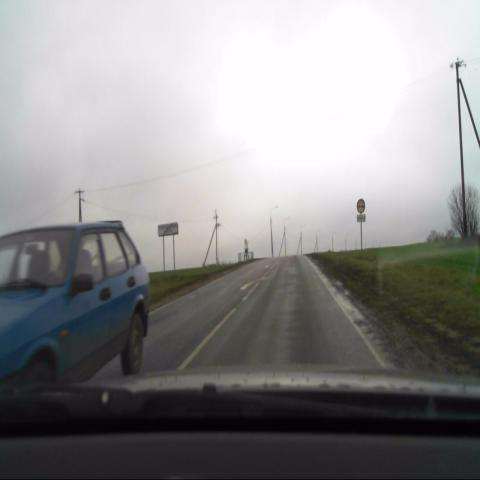3_20: (356, 197, 366, 214)
